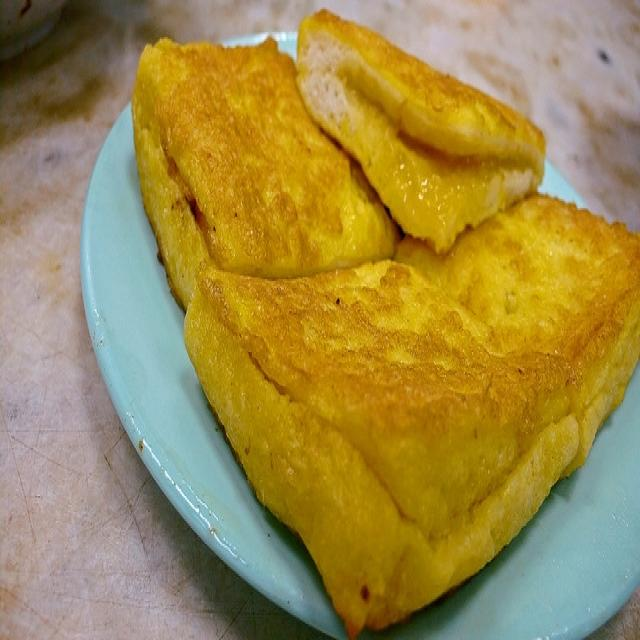面包点心: (104, 23, 624, 619)
